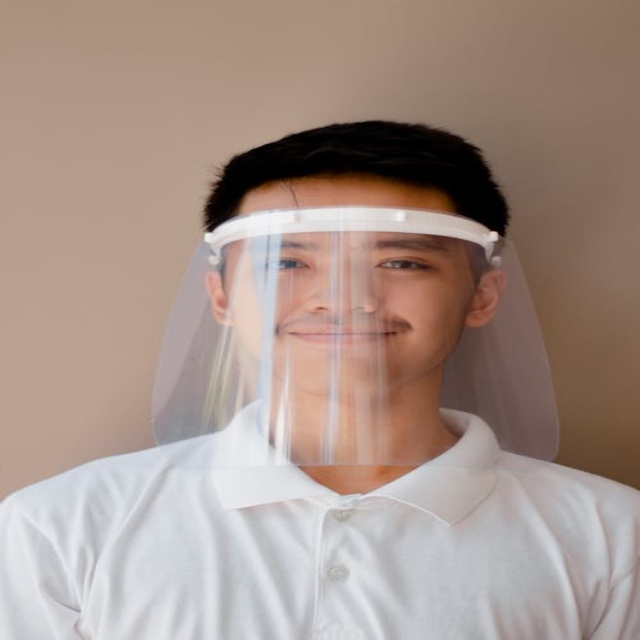Mascara: (149, 208, 559, 468)
Sin_gafas: (242, 244, 445, 286)
Sin_mascara: (255, 311, 417, 378)
